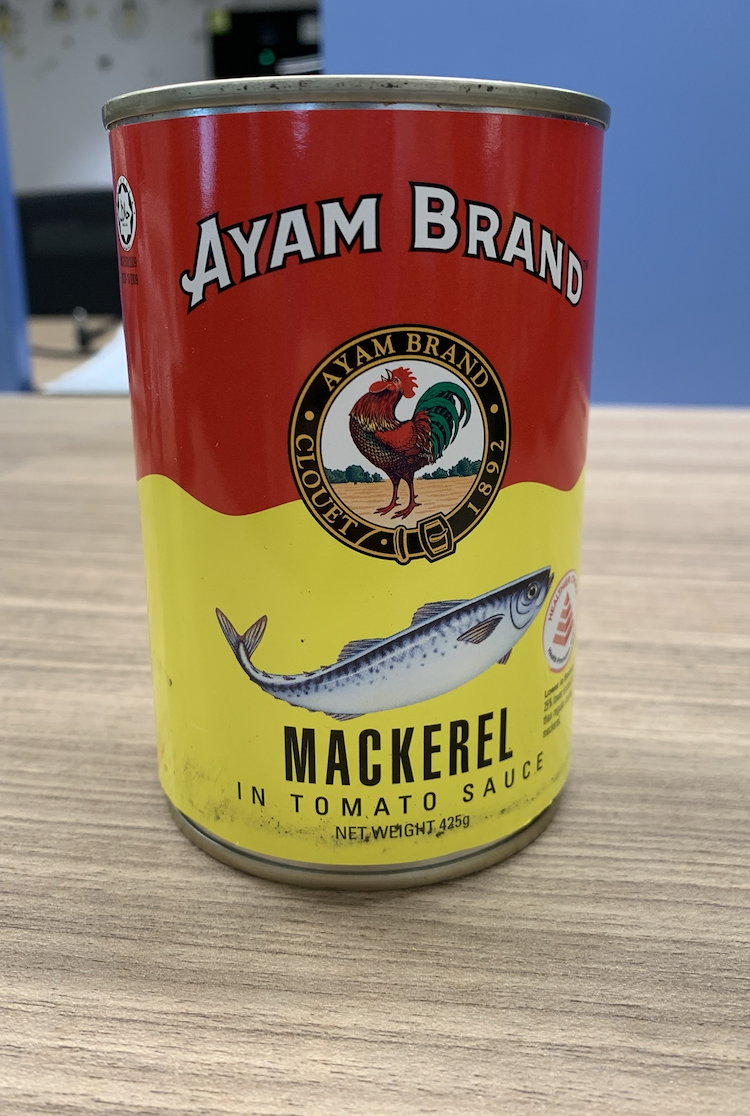sardines_400g-499g: (159, 128, 563, 842)
